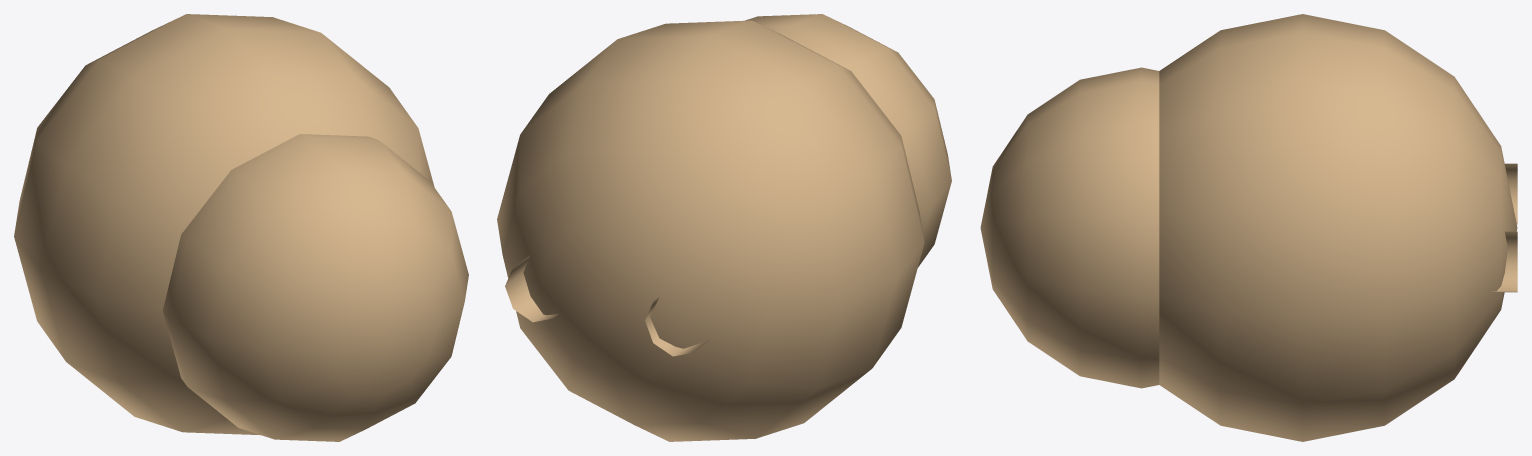
3 views of the same model, side by side, from view 1: azimuth 30°, elevation 25°; view 2: azimuth 150°, elevation 25°; view 3: azimuth 270°, elevation 25° (orthographic).
Parts seen in each view (by area): view 1: Antilopine Wallaroo; view 2: Antilopine Wallaroo; view 3: Antilopine Wallaroo.
Boxes of the visible parts, x1=… form: Antilopine Wallaroo: x1=14, y1=14, x2=468, y2=441; Antilopine Wallaroo: x1=497, y1=14, x2=951, y2=441; Antilopine Wallaroo: x1=980, y1=14, x2=1517, y2=441.
Bounding box in the file's own units: 0.88 × 0.88 × 1.1.
